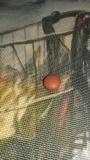Dolorex: (42, 73, 61, 91)
